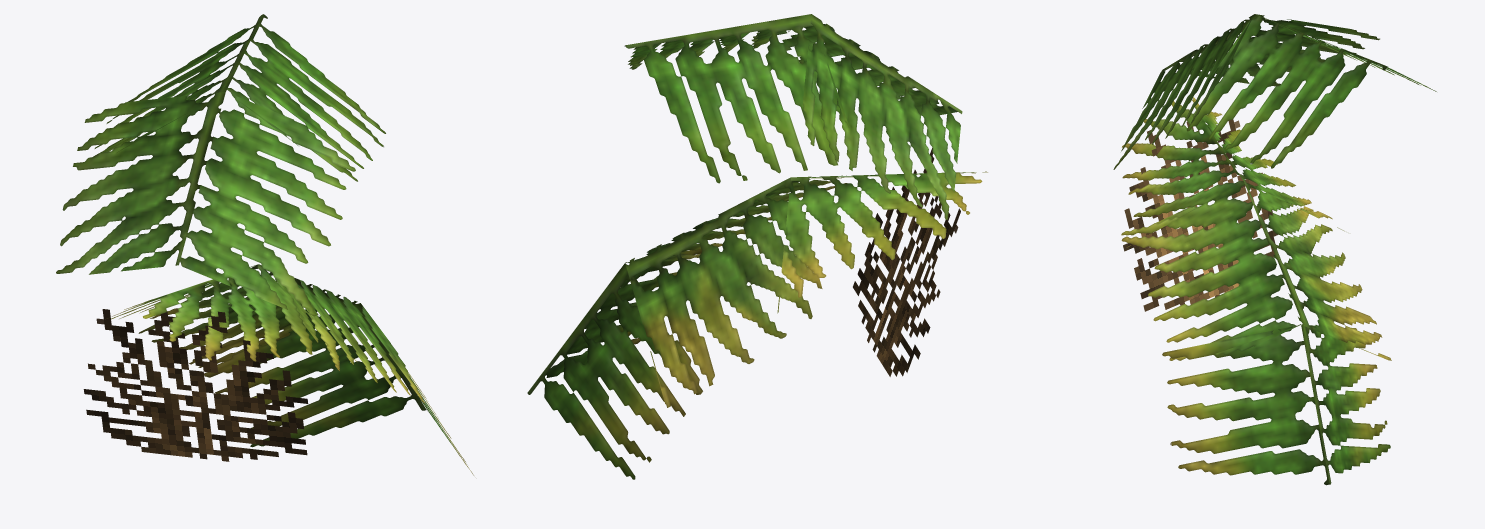
The model's file is caribbean_royal_palm_corner_2.obj.
The picture shows the model from 3 angles, left to right: view 1: azimuth 30°, elevation 25°; view 2: azimuth 150°, elevation 25°; view 3: azimuth 270°, elevation 25°; orthographic projection. The views are drawn at different scales.
Visible parts, largest first — view 1: cube.323; view 2: cube.323; view 3: cube.323.
Part boxes in pixels (x1=…): cube.323: x1=56, y1=14, x2=473, y2=475; cube.323: x1=527, y1=14, x2=987, y2=479; cube.323: x1=1113, y1=14, x2=1436, y2=485.
Bounding box in the file's own units: 3 × 3.17 × 2.87.
